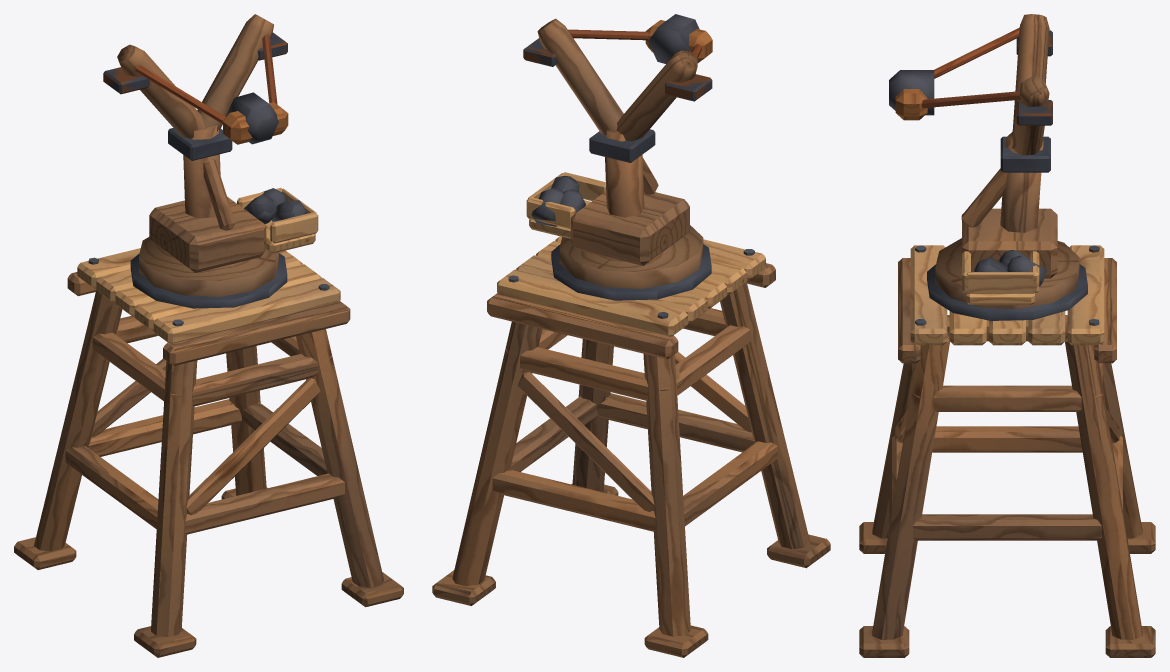
The model's file is sapan_kulesi.glb.
3 views of the same model, side by side, from view 1: azimuth 30°, elevation 25°; view 2: azimuth 150°, elevation 25°; view 3: azimuth 270°, elevation 25° (orthographic). The views are drawn at different scales.
Visible parts, largest first — view 1: sapan_kulesi, head; view 2: sapan_kulesi, head; view 3: sapan_kulesi, head.
Part boxes in pixels (x1,y1,x2,y2): sapan_kulesi: [14, 248, 403, 657]; head: [103, 14, 318, 308]; sapan_kulesi: [432, 236, 830, 657]; head: [523, 14, 712, 300]; sapan_kulesi: [859, 245, 1155, 657]; head: [889, 14, 1087, 320].
Size of the model in its own units: 1.3 by 2.7 by 1.3.
1 material, 1 textured.
